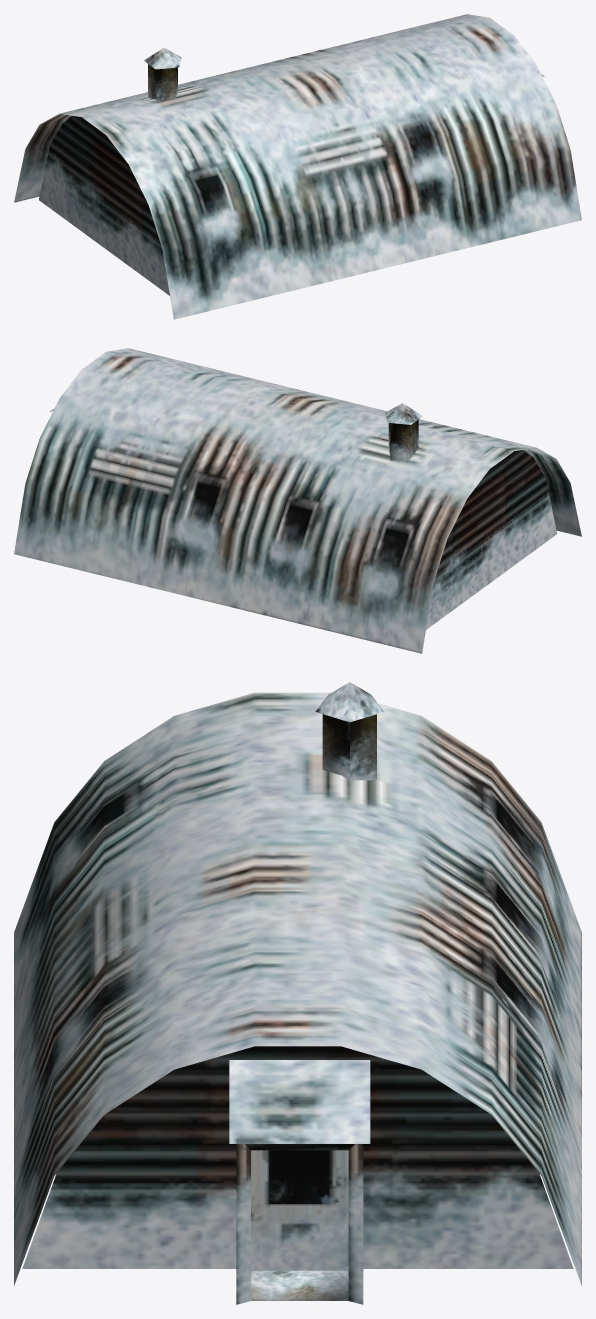
Rendered from Civilian - Civilian Building - Quonset Hut 01 - Snow and Night - CBQuonset1_SN.glb.
3 views of the same model, one above another, from view 1: azimuth 30°, elevation 25°; view 2: azimuth 150°, elevation 25°; view 3: azimuth 270°, elevation 25° (orthographic). The views are drawn at different scales.
Parts seen in each view (by area): view 1: CBQUONSET1_SN; view 2: CBQUONSET1_SN; view 3: CBQUONSET1_SN.
Boxes of the visible parts, bbox=[...] form: CBQUONSET1_SN: bbox=[14, 14, 581, 319]; CBQUONSET1_SN: bbox=[14, 348, 581, 653]; CBQUONSET1_SN: bbox=[14, 682, 581, 1304].
Size of the model in its own units: 42.17 by 17.07 by 26.98.
Materials: 1 (1 with a texture image).
